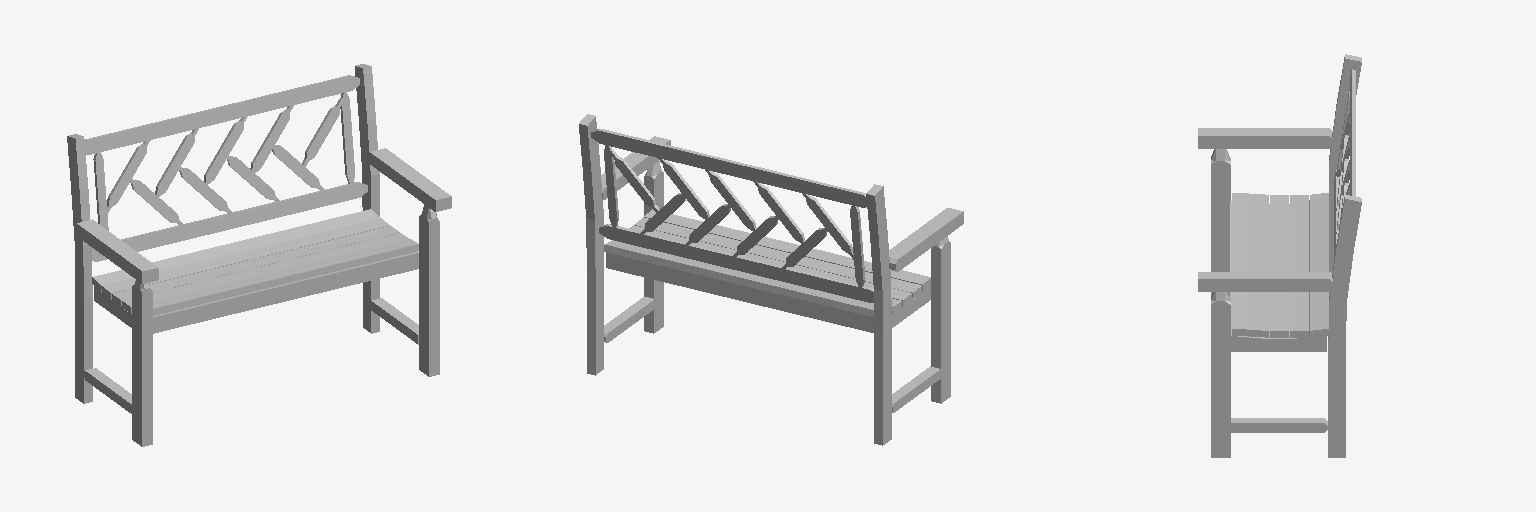
Rendered from banco_nuevo.obj.
3 views of the same model, side by side, from view 1: azimuth 30°, elevation 25°; view 2: azimuth 150°, elevation 25°; view 3: azimuth 270°, elevation 25° (orthographic).
Parts seen in each view (by area): view 1: Cube_27; view 2: Cube_27; view 3: Cube_27.
Boxes of the visible parts, box(x1,y1,x2,y2) form: Cube_27: box(67, 64, 451, 446); Cube_27: box(579, 114, 963, 445); Cube_27: box(1198, 54, 1361, 457).
Bounding box in the file's own units: 1.01 × 0.8063 × 0.4629.